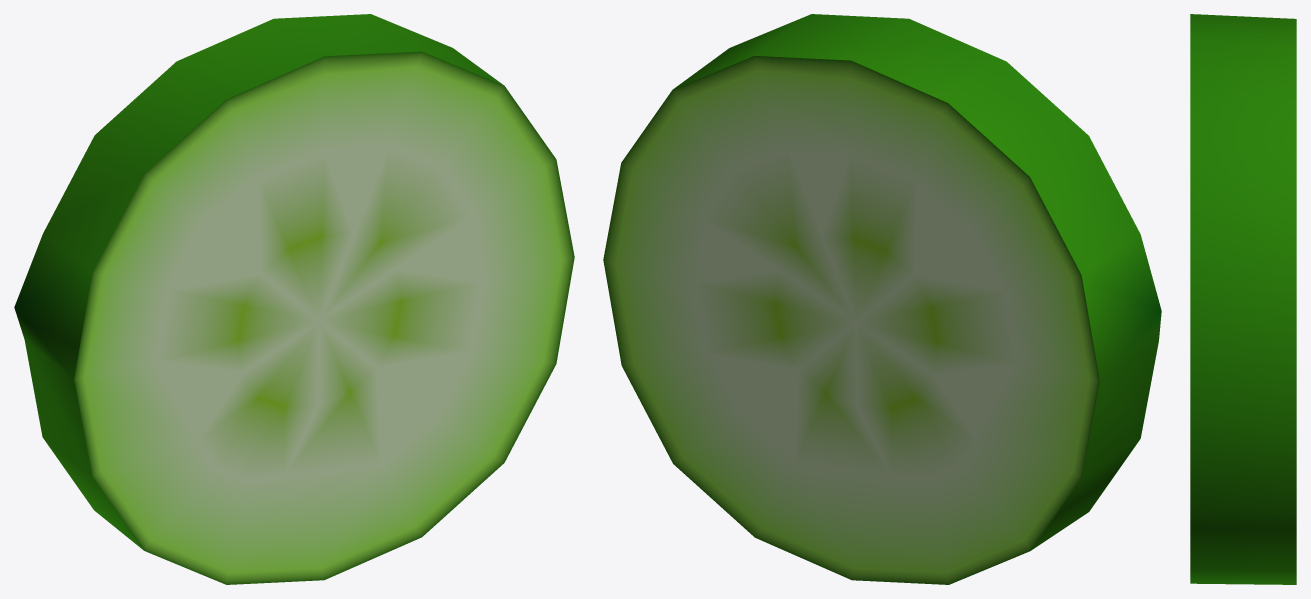
Rendered from Cucumber_Slice_12.fbx.
3 views of the same model, side by side, from view 1: azimuth 30°, elevation 25°; view 2: azimuth 150°, elevation 25°; view 3: azimuth 270°, elevation 25° (orthographic).
Visible parts, largest first — view 1: Cucumber_Slice_12; view 2: Cucumber_Slice_12; view 3: Cucumber_Slice_12.
Part boxes in pixels (x1=…): Cucumber_Slice_12: x1=14, y1=14, x2=574, y2=584; Cucumber_Slice_12: x1=603, y1=14, x2=1161, y2=584; Cucumber_Slice_12: x1=1190, y1=14, x2=1296, y2=584.
Bounding box in the file's own units: 4.89 × 4.58 × 0.862.
